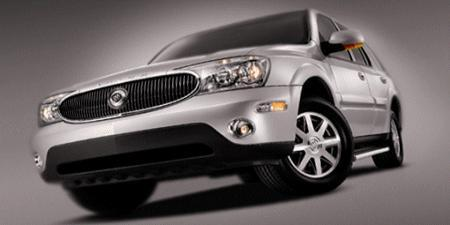Car: (30, 1, 425, 221)
